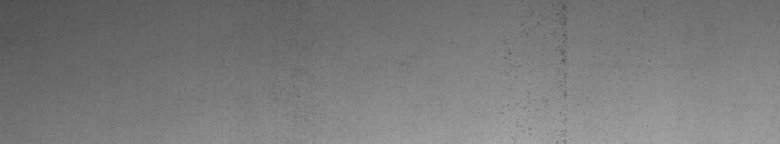ib: (504, 5, 567, 98)
